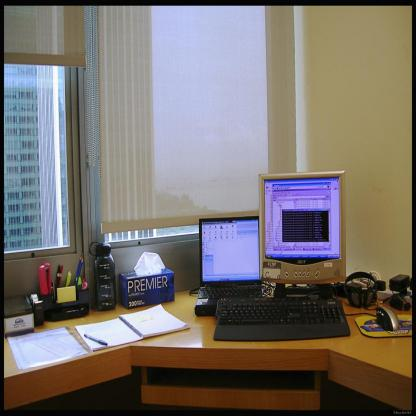board: (195, 216, 259, 315), (90, 240, 116, 312)
